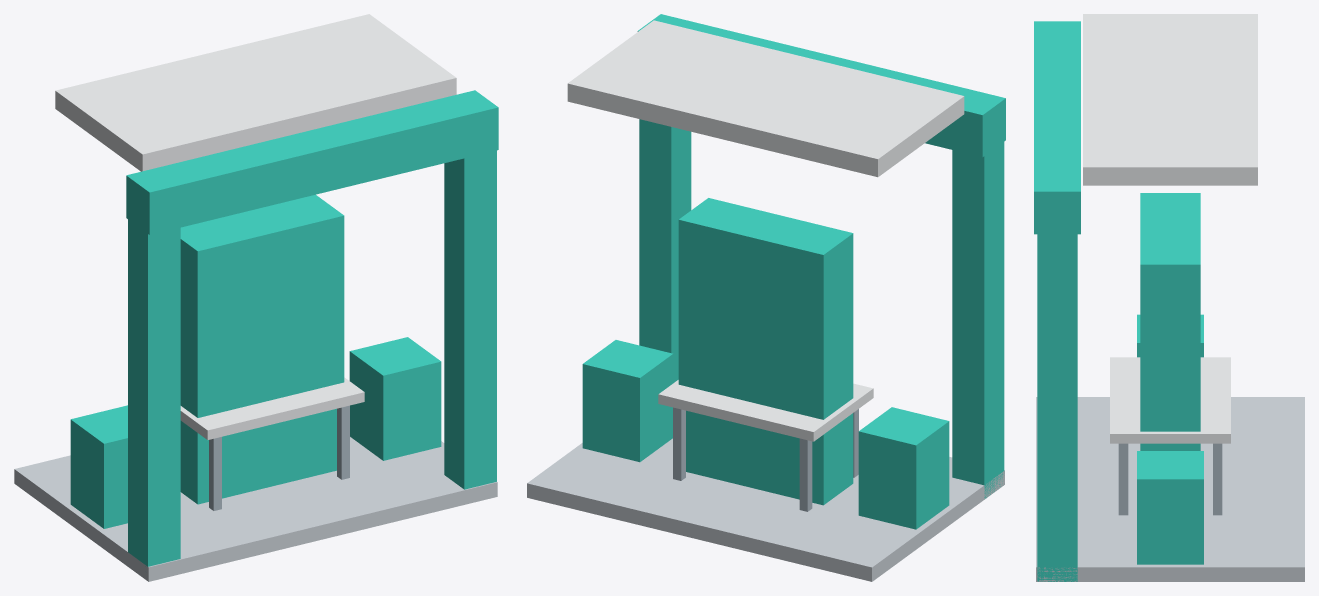
3 views of the same model, side by side, from view 1: azimuth 30°, elevation 25°; view 2: azimuth 150°, elevation 25°; view 3: azimuth 270°, elevation 25° (orthographic).
Parts seen in each view (by area): view 1: Exhibition Booth Concept; view 2: Exhibition Booth Concept; view 3: Exhibition Booth Concept.
Boxes of the visible parts, x1,y1,x2,y2 form: Exhibition Booth Concept: [14, 14, 498, 581]; Exhibition Booth Concept: [527, 14, 1005, 581]; Exhibition Booth Concept: [1034, 14, 1304, 581].
Size of the model in its own units: 3 by 3.34 by 2.01.
